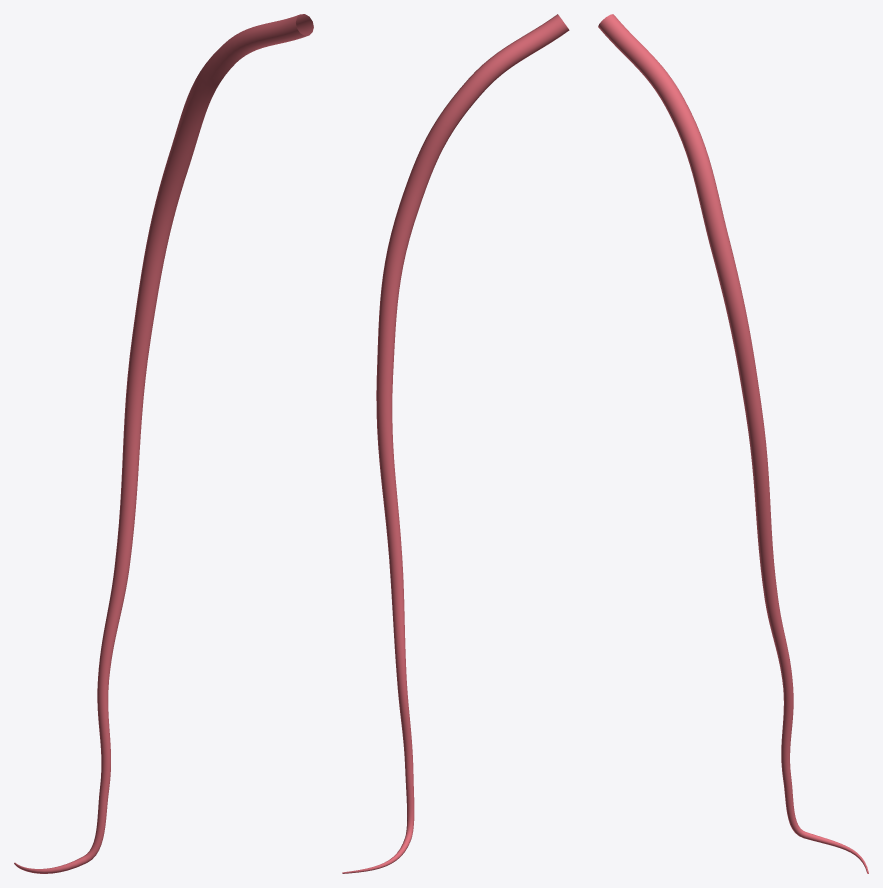
The picture shows the model from 3 angles, left to right: view 1: azimuth 90°, elevation 25°; view 2: azimuth 150°, elevation 25°; view 3: azimuth 270°, elevation 25°; orthographic projection. The views are drawn at different scales.
Visible parts, largest first — view 1: ZA_389e18d68d266430; view 2: ZA_389e18d68d266430; view 3: ZA_389e18d68d266430.
Boxes of the visible parts, x1,y1,x2,y2 form: ZA_389e18d68d266430: (14,14,313,873); ZA_389e18d68d266430: (342,14,569,873); ZA_389e18d68d266430: (598,14,868,873).
Size of the model in its own units: 0.0425 by 0.2598 by 0.0784.
